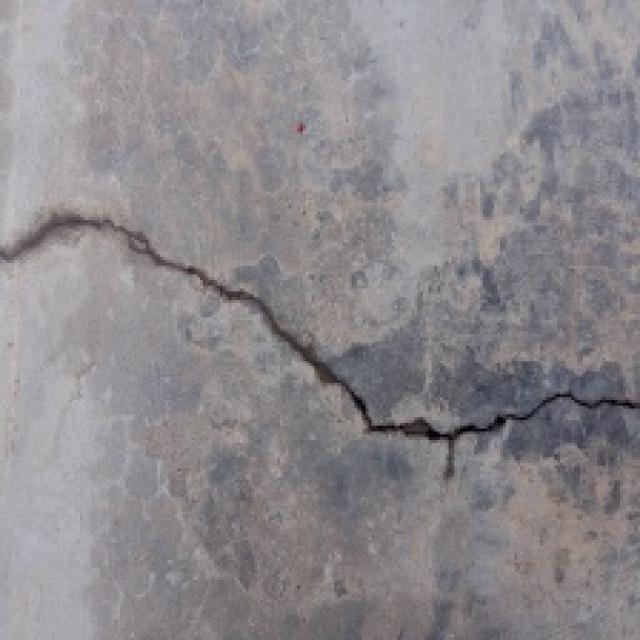SurfaceCrack: (6, 194, 640, 472)
